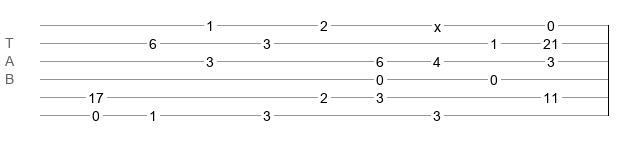0: (92, 108, 100, 118), (376, 72, 384, 82), (490, 72, 498, 82), (547, 18, 555, 28)
1: (149, 108, 157, 118), (206, 18, 214, 28), (490, 36, 498, 46)
11: (543, 90, 559, 100)
17: (88, 90, 104, 100)
2: (320, 18, 328, 28), (320, 90, 328, 100)
21: (543, 36, 559, 46)
3: (206, 54, 214, 64), (263, 108, 271, 118), (263, 36, 271, 46), (376, 90, 384, 100), (433, 108, 441, 118), (547, 54, 555, 64)
4: (433, 54, 441, 64)
6: (149, 36, 157, 46), (376, 54, 384, 64)
x: (434, 19, 441, 27)
